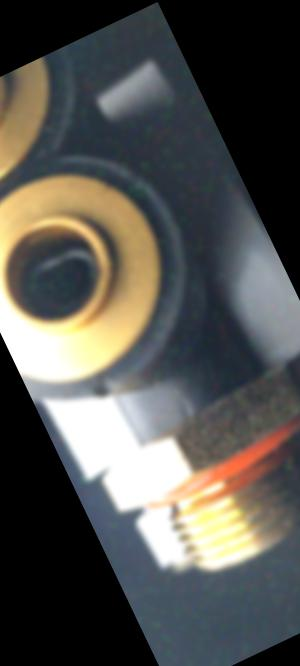bump: (84, 366, 129, 410)
joint line: (159, 367, 191, 408)
off-centered: (4, 225, 111, 329)
white mark: (184, 403, 197, 419)
